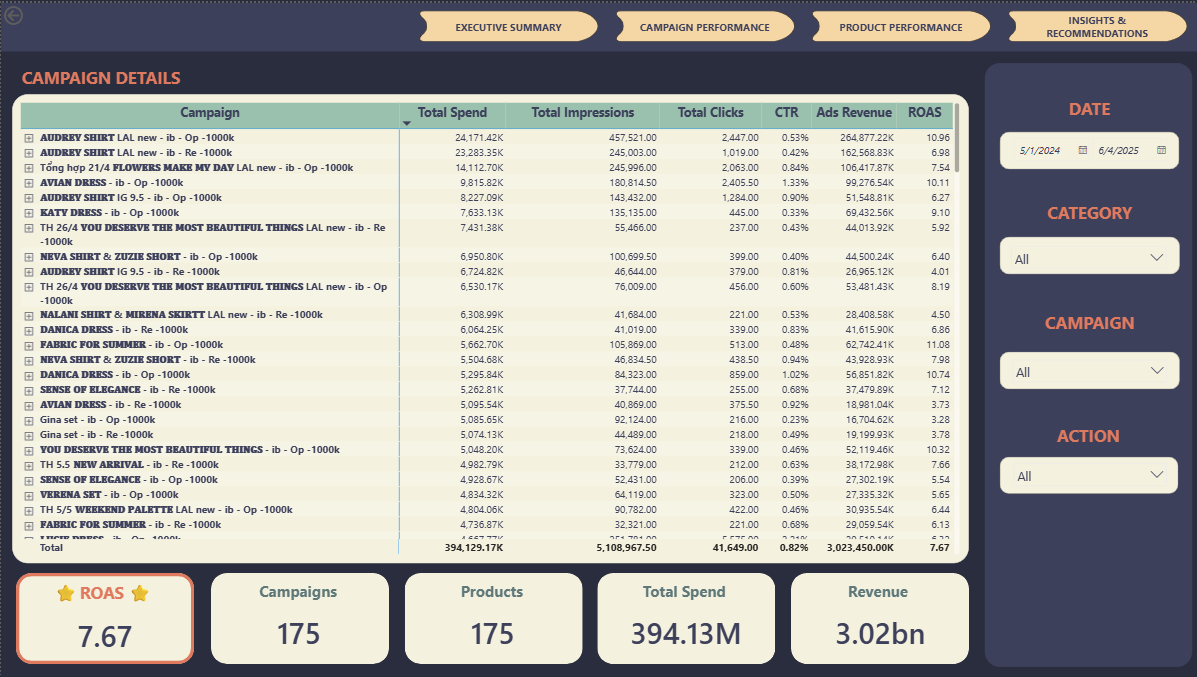

The page's visual inventory and layout, read from the dashboard file:
{"tool":"powerbi","page":{"name":"Campaign Details","canvas":[1920,1080],"ordinal":4},"visuals":[{"type":"pivotTable","fields":{"Rows":["Dim_Camp_Cost.Tên chiến dịch","Fact_Camp_SKU_Cost.Mã Sản phẩm","Dim_Date.Date"],"Values":["_Measures.Total Spend","_Measures.Total Impressions","_Measures.Total Clicks","_Measures.CTR","_Measures.Revenue of Ads (by Camp and SKU)","_Measures.ROAS (Return on Ads Spend)"]},"box":[17.5,145,1530,750],"z":0},{"type":"textbox","box":[1574,96,332,966],"z":1000},{"type":"shape","box":[1597.1,205.7,287.1,60],"z":1000,"group":"g7"},{"type":"shape","box":[23.1,912.5,284.8,145.5],"z":1000,"group":"g1"},{"type":"shape","box":[334.2,912.5,284.8,145.4],"z":1000,"group":"g2"},{"type":"shape","box":[645.9,912.5,284.8,145.4],"z":1000,"group":"g3"},{"type":"shape","box":[953.9,912.5,284.8,145.9],"z":1000,"group":"g4"},{"type":"shape","box":[1263.3,912.5,284.8,145.9],"z":1000,"group":"g5"},{"type":"shape","box":[0,0,1920,77.5],"z":2000},{"type":"pageNavigator","box":[662,12,1244,50],"z":3000},{"type":"shape","box":[1598.7,726.2,285.6,59.3],"z":3000,"group":"g10"},{"type":"textbox","box":[1597.1,145.7,287.1,50],"z":4000},{"type":"actionButton","box":[0,0,100,40],"z":5000},{"type":"slicer","fields":{"Values":["Dim_Date.Date"]},"box":[1606.9,211.8,268.6,52.9],"z":5000,"group":"g7"},{"type":"slicer","fields":{"Values":["Dim_Camp_Cost.Action Bucket Col"]},"box":[1610.6,732.1,265,50],"z":5000,"group":"g10"},{"type":"textbox","box":[17.5,921.2,290.5,66.6],"z":5000,"group":"g1"},{"type":"textbox","box":[328.6,921.2,290.5,66.6],"z":5000,"group":"g2"},{"type":"textbox","box":[640.3,921.2,290.5,66.6],"z":5000,"group":"g3"},{"type":"textbox","box":[948.3,921.2,290.5,66.8],"z":5000,"group":"g4"},{"type":"textbox","box":[1257.7,921.2,290.5,66.8],"z":5000,"group":"g5"},{"type":"textbox","box":[1596.2,668.8,287.5,46],"z":6000},{"type":"group","id":"g1","title":"Group 1","box":[17.5,912.5,291.1,147.5],"z":6000,"group":"g6"},{"type":"group","id":"g2","title":"Group 1","box":[328.6,912.5,290.5,145.9],"z":6000,"group":"g8"},{"type":"group","id":"g3","title":"Group 1","box":[640.3,912.5,290.5,145.9],"z":6000,"group":"g14"},{"type":"group","id":"g4","title":"Group 1","box":[948.3,912.5,290.5,145.9],"z":6000,"group":"g12"},{"type":"group","id":"g5","title":"Group 1","box":[1257.7,912.5,290.5,145.9],"z":6000,"group":"g13"},{"type":"shape","box":[1598,374,288,60],"z":7000},{"type":"textbox","box":[28,96,306,50],"z":8000},{"type":"group","id":"g6","title":"Group 3","box":[17.5,912.5,292.4,147.5],"z":8000,"group":"g11"},{"type":"textbox","box":[1598,312,288,50],"z":9000},{"type":"slicer","fields":{"Values":["Dim_Product.Danh mục"]},"box":[1605.7,384.3,268.6,50],"z":10000},{"type":"shape","box":[1598,558,288,60],"z":10000,"group":"g9"},{"type":"textbox","box":[1598,488,288,46],"z":11000},{"type":"group","id":"g7","title":"Group 1","box":[1597.1,205.7,287.1,60],"z":12000},{"type":"group","id":"g8","title":"Group 3","box":[328.6,912.5,289.8,145],"z":12000,"group":"g11"},{"type":"group","id":"g9","title":"Group 2","box":[1598,558,288,60],"z":13000},{"type":"slicer","fields":{"Values":["Dim_Camp_Cost.Tên chiến dịch"]},"box":[1608,565.5,267.5,51.2],"z":13000,"group":"g9"},{"type":"group","id":"g10","title":"Group 3","box":[1598.7,726.2,285.6,59.3],"z":14000},{"type":"group","id":"g11","title":"Group 4","box":[17.5,912.5,1530,147.5],"z":15000},{"type":"group","id":"g12","title":"Group 3","box":[948.3,912.5,292.4,147.5],"z":15000,"group":"g11"},{"type":"group","id":"g13","title":"Group 3","box":[1257.7,912.5,289.8,145],"z":16000,"group":"g11"},{"type":"cardVisual","fields":{"Data":["_Measures.Campaign Count"]},"box":[335.1,953.9,282.5,104.5],"z":16000,"group":"g2"},{"type":"cardVisual","fields":{"Data":["_Measures.SKU Count"]},"box":[646.8,953.9,282.5,104.5],"z":16000,"group":"g3"},{"type":"cardVisual","fields":{"Data":["_Measures.Total Spend"]},"box":[953.8,954.1,284.9,103.5],"z":16000,"group":"g4"},{"type":"cardVisual","fields":{"Data":["_Measures.Revenue of Ads (by Camp and SKU)"]},"box":[1264.7,954.7,282.5,103.5],"z":16000,"group":"g5"},{"type":"cardVisual","fields":{"Data":["_Measures.ROAS (Return on Ads Spend)"]},"box":[25.7,959.8,281.4,99.5],"z":16000,"group":"g1"},{"type":"group","id":"g14","title":"Group 3","box":[640.3,912.5,289.8,145],"z":20001,"group":"g11"}]}

Visuals, with their boxes in screenshot pixels (x1, y1, x2, y2), scaled from the page's 1920x1080 canvas onto the 1197x677 screenshot:
pivotTable - Dim_Camp_Cost.Tên chiến dịch x Fact_Camp_SKU_Cost.Mã Sản phẩm: <box>11,91,965,561</box>
textbox: <box>981,60,1188,666</box>
shape: <box>996,129,1175,167</box>
shape: <box>14,572,192,663</box>
shape: <box>208,572,386,663</box>
shape: <box>403,572,580,663</box>
shape: <box>595,572,772,663</box>
shape: <box>788,572,965,663</box>
shape: <box>0,0,1196,49</box>
pageNavigator: <box>413,8,1188,39</box>
shape: <box>997,455,1175,492</box>
textbox: <box>996,91,1175,123</box>
actionButton: <box>0,0,62,25</box>
slicer - Dim_Date.Date: <box>1002,133,1169,166</box>
slicer - Dim_Camp_Cost.Action Bucket Col: <box>1004,459,1169,490</box>
textbox: <box>11,577,192,619</box>
textbox: <box>205,577,386,619</box>
textbox: <box>399,577,580,619</box>
textbox: <box>591,577,772,619</box>
textbox: <box>784,577,965,619</box>
textbox: <box>995,419,1174,448</box>
"Group 1" group: <box>11,572,192,664</box>
"Group 1" group: <box>205,572,386,663</box>
"Group 1" group: <box>399,572,580,663</box>
"Group 1" group: <box>591,572,772,663</box>
"Group 1" group: <box>784,572,965,663</box>
shape: <box>996,234,1176,272</box>
textbox: <box>17,60,208,92</box>
"Group 3" group: <box>11,572,193,664</box>
textbox: <box>996,196,1176,227</box>
slicer - Dim_Product.Danh mục: <box>1001,241,1169,272</box>
shape: <box>996,350,1176,387</box>
textbox: <box>996,306,1176,335</box>
"Group 1" group: <box>996,129,1175,167</box>
"Group 3" group: <box>205,572,386,663</box>
"Group 2" group: <box>996,350,1176,387</box>
slicer - Dim_Camp_Cost.Tên chiến dịch: <box>1002,354,1169,387</box>
"Group 3" group: <box>997,455,1175,492</box>
"Group 4" group: <box>11,572,965,664</box>
"Group 3" group: <box>591,572,773,664</box>
"Group 3" group: <box>784,572,965,663</box>
cardVisual - _Measures.Campaign Count: <box>209,598,385,663</box>
cardVisual - _Measures.SKU Count: <box>403,598,579,663</box>
cardVisual - _Measures.Total Spend: <box>595,598,772,663</box>
cardVisual - _Measures.Revenue of Ads (by Camp and SKU): <box>788,598,965,663</box>
cardVisual - _Measures.ROAS (Return on Ads Spend): <box>16,602,191,664</box>
"Group 3" group: <box>399,572,580,663</box>
